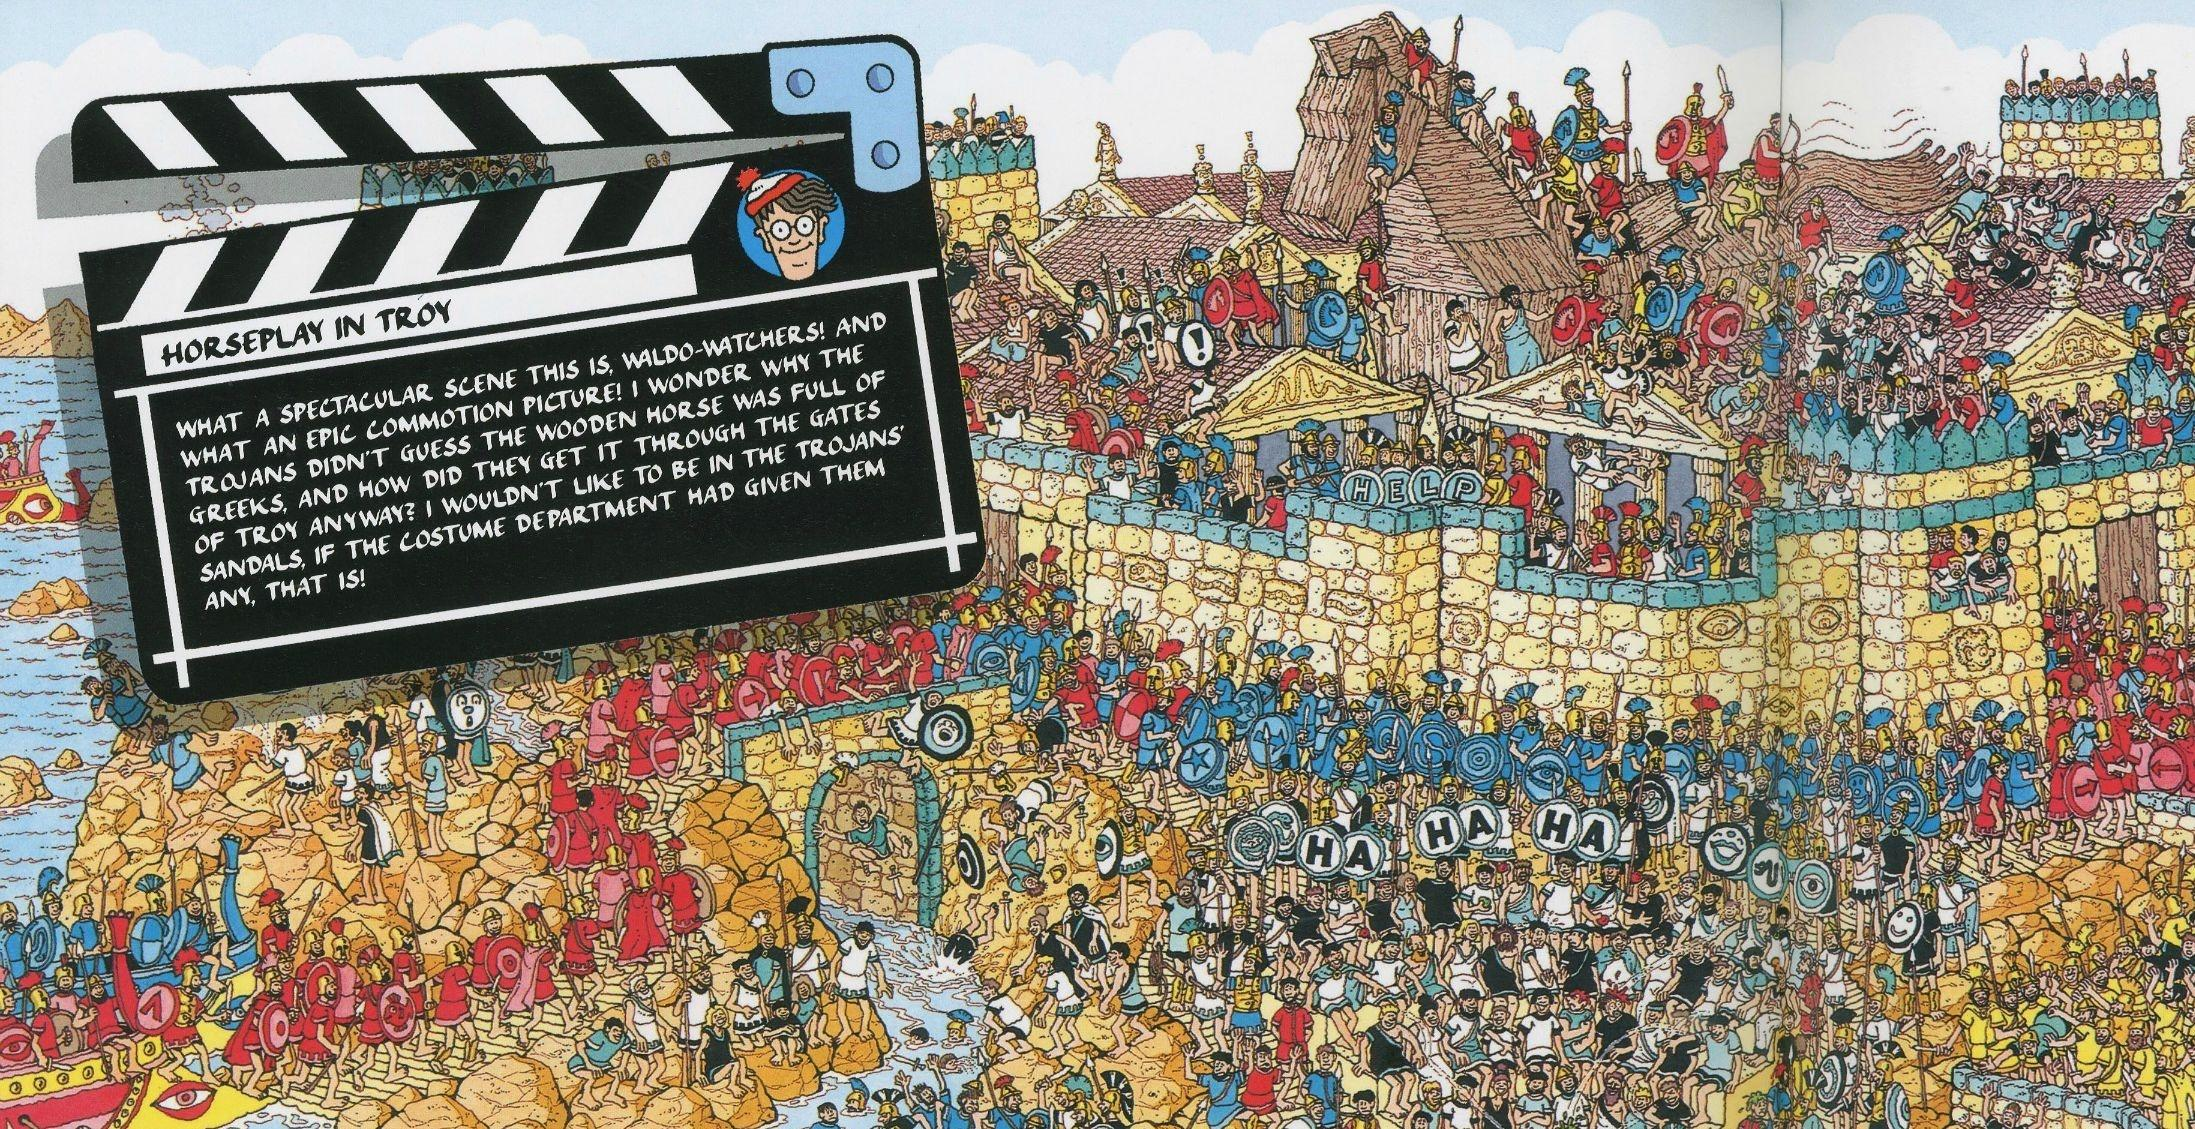waldos: (736, 158, 841, 284)
